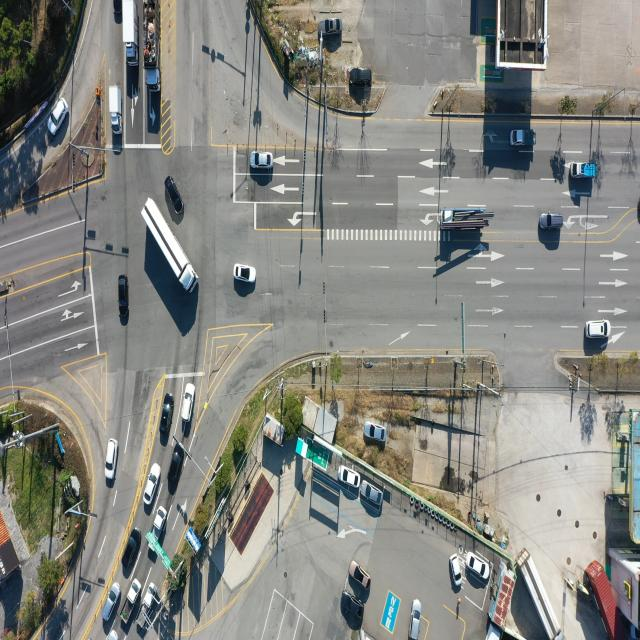car: (167, 444, 184, 493), (341, 590, 367, 620), (143, 462, 161, 505), (49, 97, 69, 135), (124, 530, 142, 572), (166, 175, 184, 216), (102, 582, 120, 623), (350, 559, 371, 591), (466, 553, 489, 581), (104, 438, 118, 481), (181, 382, 194, 422), (162, 402, 174, 444), (361, 484, 382, 508), (410, 600, 422, 640), (340, 466, 361, 488), (118, 274, 128, 318), (364, 422, 385, 442), (586, 320, 609, 338), (539, 212, 562, 230), (452, 552, 464, 586), (252, 151, 274, 169), (235, 266, 257, 284), (322, 18, 342, 36), (352, 67, 372, 85), (113, 0, 123, 16)
medium_truck: (142, 196, 196, 296), (519, 546, 563, 638), (142, 0, 162, 91), (440, 206, 487, 231), (124, 0, 138, 64)
small_truck: (122, 576, 142, 624), (137, 581, 157, 627), (148, 506, 167, 552), (108, 87, 120, 131), (569, 162, 596, 180), (512, 129, 536, 148)
